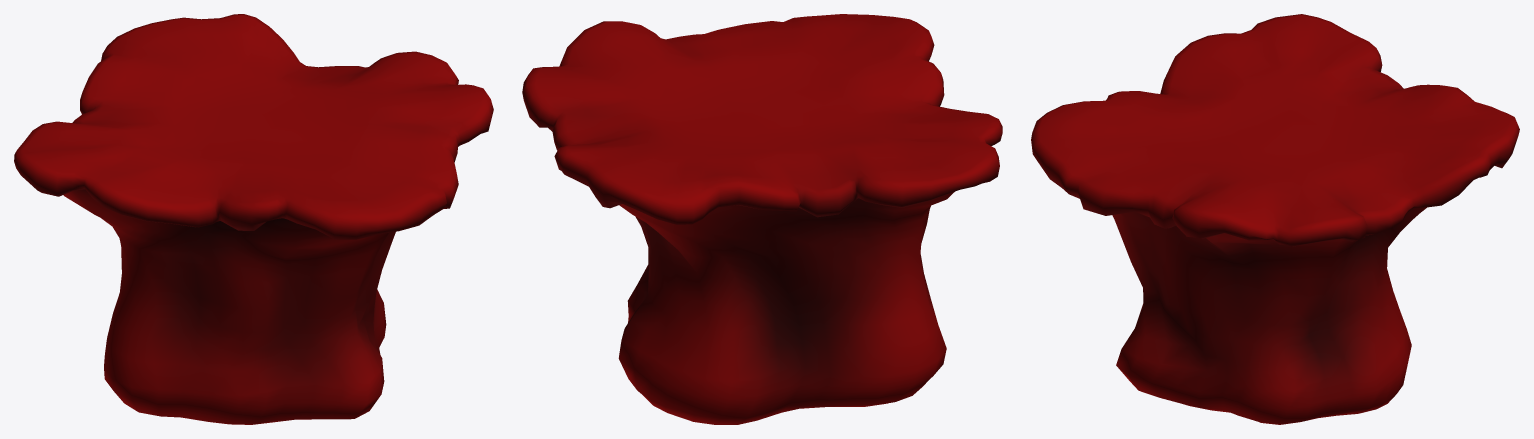
Rendered from env_siderock_medium01_lod0.fbx.
3 views of the same model, side by side, from view 1: azimuth 30°, elevation 25°; view 2: azimuth 150°, elevation 25°; view 3: azimuth 270°, elevation 25° (orthographic). The views are drawn at different scales.
Parts seen in each view (by area): view 1: rock01_bot; view 2: rock01_bot; view 3: rock01_bot.
Boxes of the visible parts, <box> form: rock01_bot: <box>14,14,493,424</box>; rock01_bot: <box>522,14,1002,424</box>; rock01_bot: <box>1031,14,1519,424</box>.
Size of the model in its own units: 127 by 77.23 by 126.
